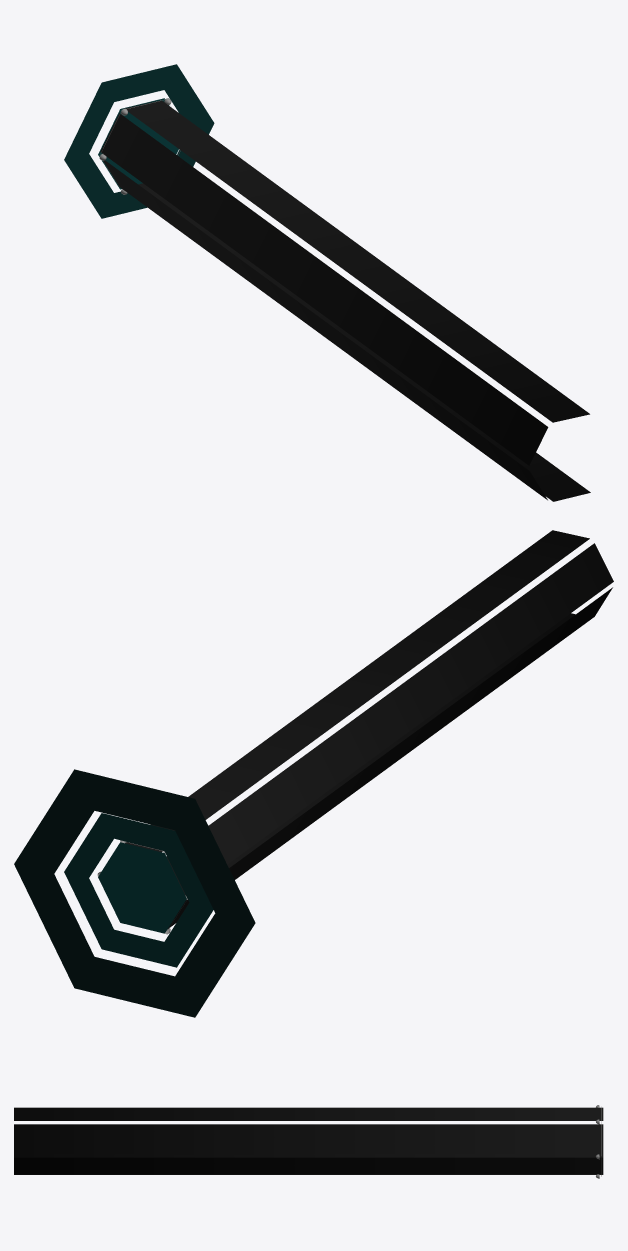
Rendered from LandingZone.dae.
3 views of the same model, one above another, from view 1: azimuth 30°, elevation 25°; view 2: azimuth 150°, elevation 25°; view 3: azimuth 270°, elevation 25° (orthographic). The views are drawn at different scales.
Visible parts, largest first — view 1: pPlane5, pPlane4, pPlane6, pCylinder3, pPlane1, pCylinder1; view 2: pCylinder4, pPlane5, pPlane4, pCylinder3, pPlane6, pCylinder1, pPlane1; view 3: pPlane3, pPlane2, pPlane4, pPlane6, pPlane1.
Boxes of the visible parts, x1,y1,x2,y2 form: pPlane5: (100, 113, 548, 465); pPlane4: (124, 100, 589, 422); pPlane6: (103, 160, 547, 500); pCylinder3: (64, 64, 214, 218); pPlane1: (138, 183, 590, 501); pCylinder1: (98, 98, 178, 189); pCylinder4: (14, 769, 255, 1017); pPlane5: (166, 543, 613, 895); pPlane4: (125, 530, 589, 852); pCylinder3: (64, 813, 213, 967); pPlane6: (168, 587, 612, 928); pCylinder1: (98, 842, 186, 933); pPlane1: (227, 613, 575, 867); pPlane3: (14, 1124, 603, 1154); pPlane2: (14, 1157, 603, 1174); pPlane4: (14, 1107, 603, 1120); pPlane6: (14, 1154, 603, 1157); pPlane1: (14, 1174, 603, 1174).
Size of the model in its own units: 0.4173 by 0.3614 by 1.31.
